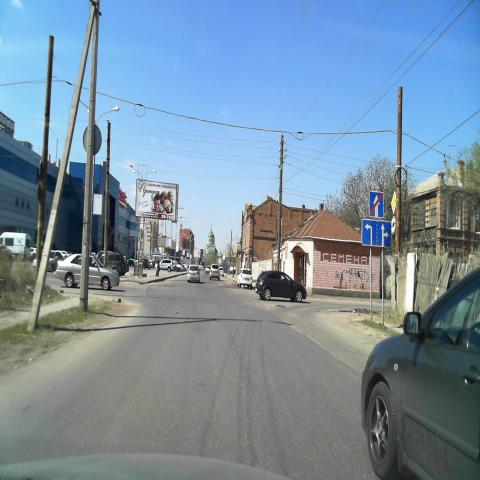2_1: (391, 191, 396, 213)
3_4_1: (390, 216, 396, 234)
5_15_2_2: (362, 219, 392, 248)
5_6: (368, 191, 384, 218)
